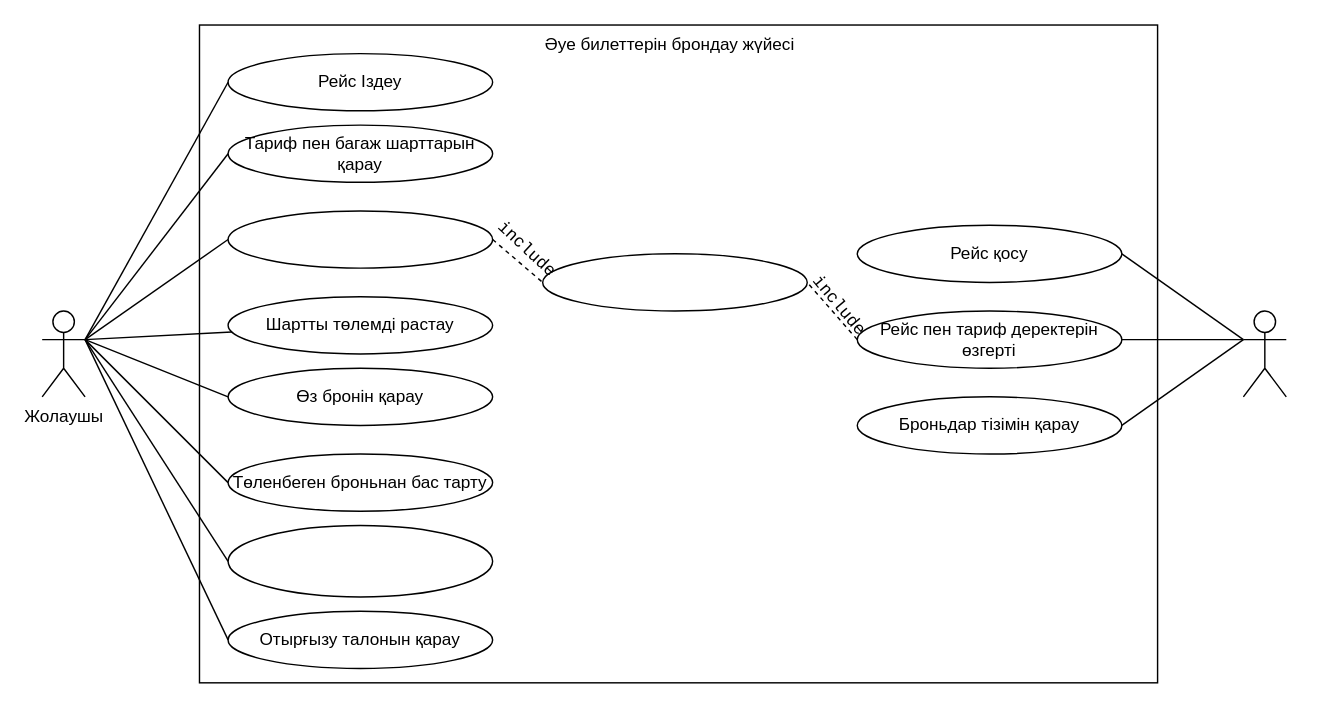
This 1317x708 diagram has some shape labels left out. Each missing label, with the centre of its shape:
"Билет брондау" belongs at pixel 360 238.
"Рейс мәліметтерін қарау" belongs at pixel 674 281.
"Рейске тіркелу және орын таңдау" belongs at pixel 360 560.
"Әкімші" belongs at pixel 1264 353.
